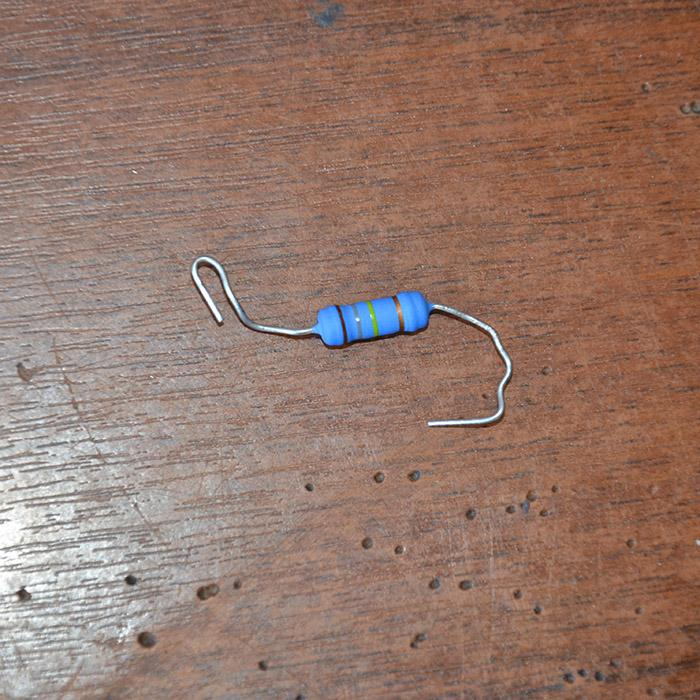resistor: (314, 290, 428, 347)
